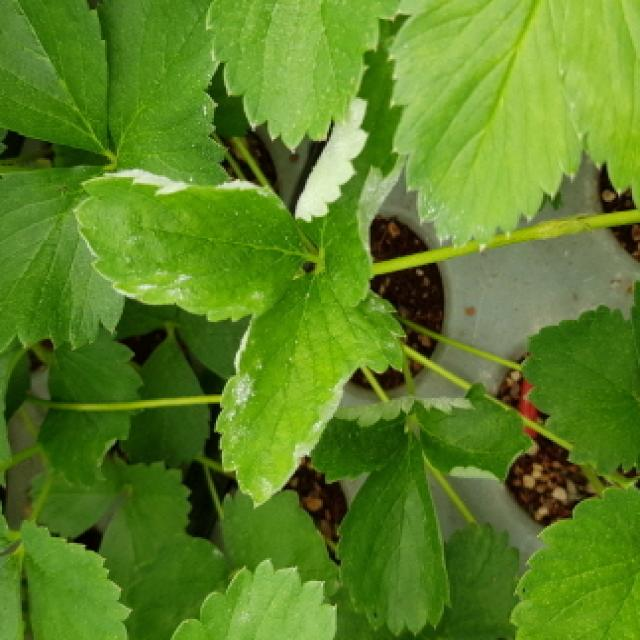Powdery Mildew Leaf: (215, 265, 409, 510), (71, 167, 313, 323), (297, 14, 412, 311), (171, 557, 339, 640), (413, 379, 537, 483), (307, 395, 412, 483)
